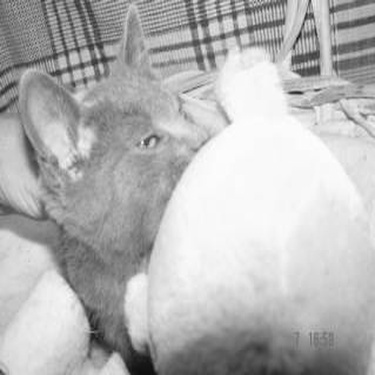cat: (16, 2, 212, 360)
